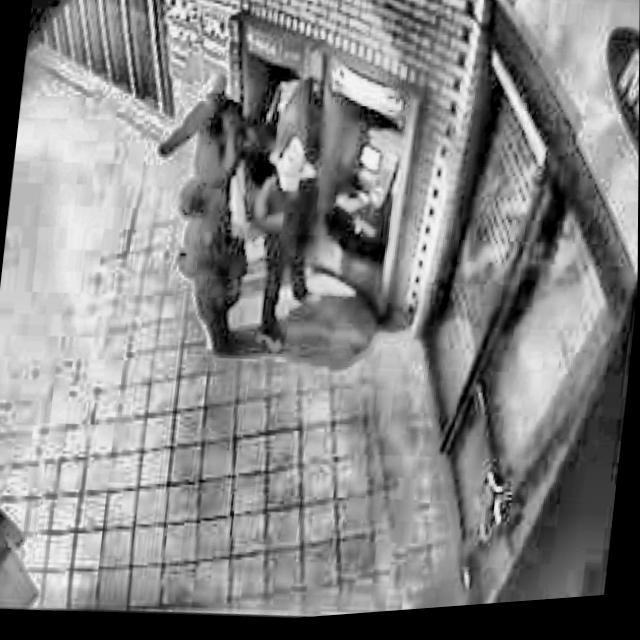burglary: (129, 52, 415, 387)
